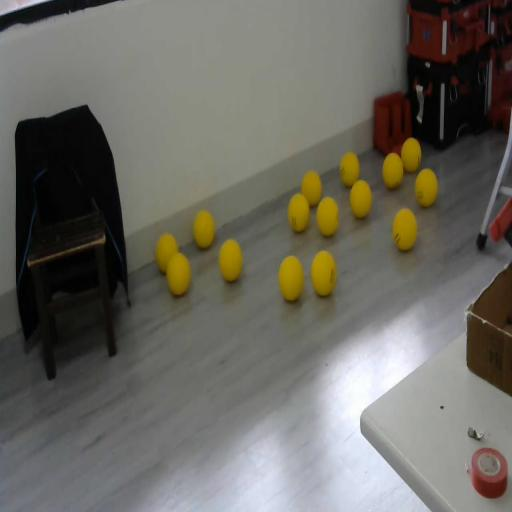FUEL: (278, 255, 304, 302), (310, 250, 336, 296), (218, 238, 243, 283), (392, 208, 418, 251), (154, 232, 180, 274), (316, 196, 339, 238), (414, 168, 438, 207), (349, 179, 372, 219), (300, 170, 322, 208), (193, 210, 215, 248), (382, 152, 404, 189), (400, 136, 422, 173), (288, 194, 309, 232), (339, 151, 360, 187)
